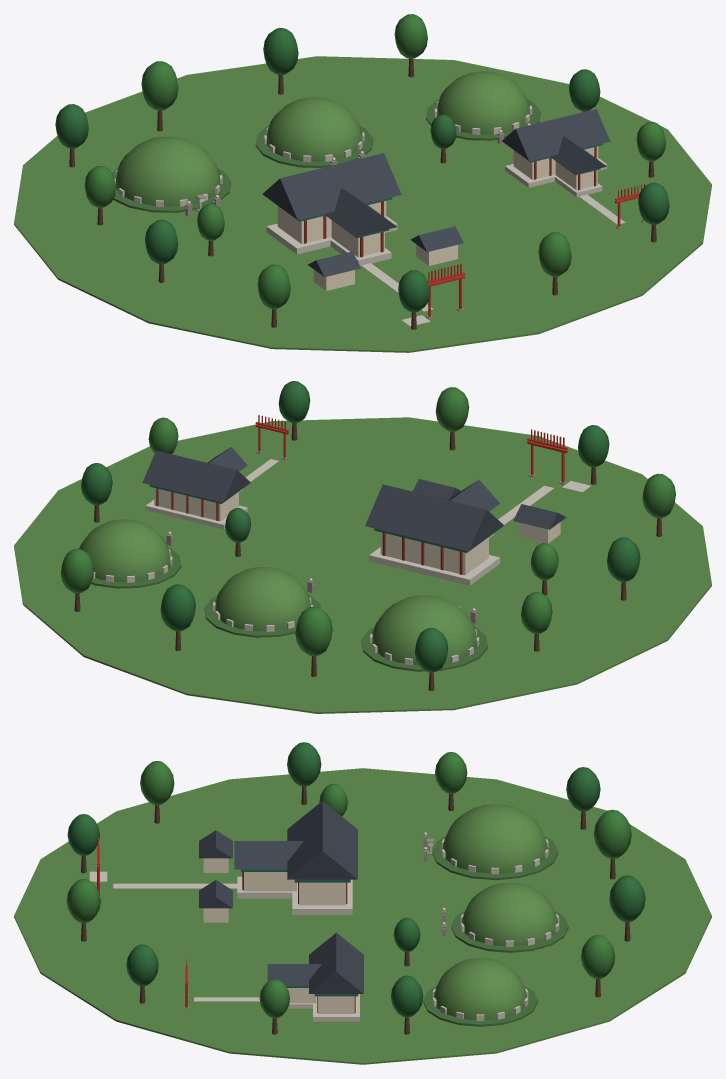
File: seonjeongneung.glb
3 renders of one model, top to bottom at view 1: azimuth 30°, elevation 25°; view 2: azimuth 150°, elevation 25°; view 3: azimuth 270°, elevation 25°, orthographic.
Size of the model in its own units: 95 by 10.36 by 95.
